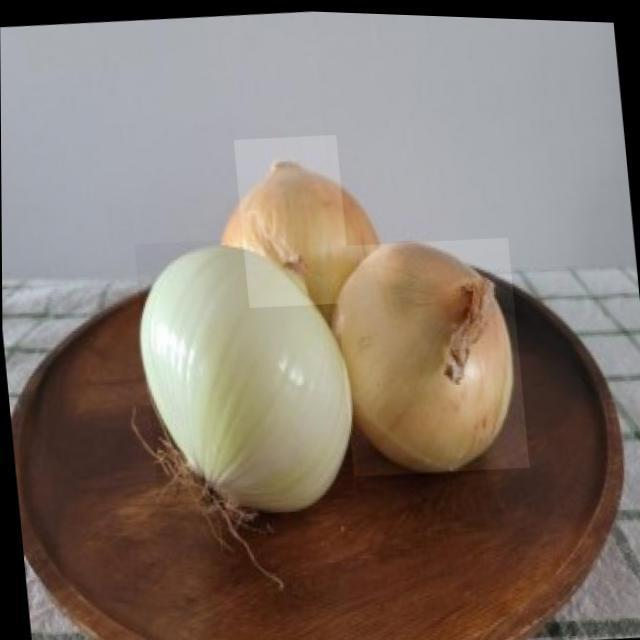Onion: (134, 226, 354, 512), (332, 228, 528, 478), (233, 128, 351, 308)
